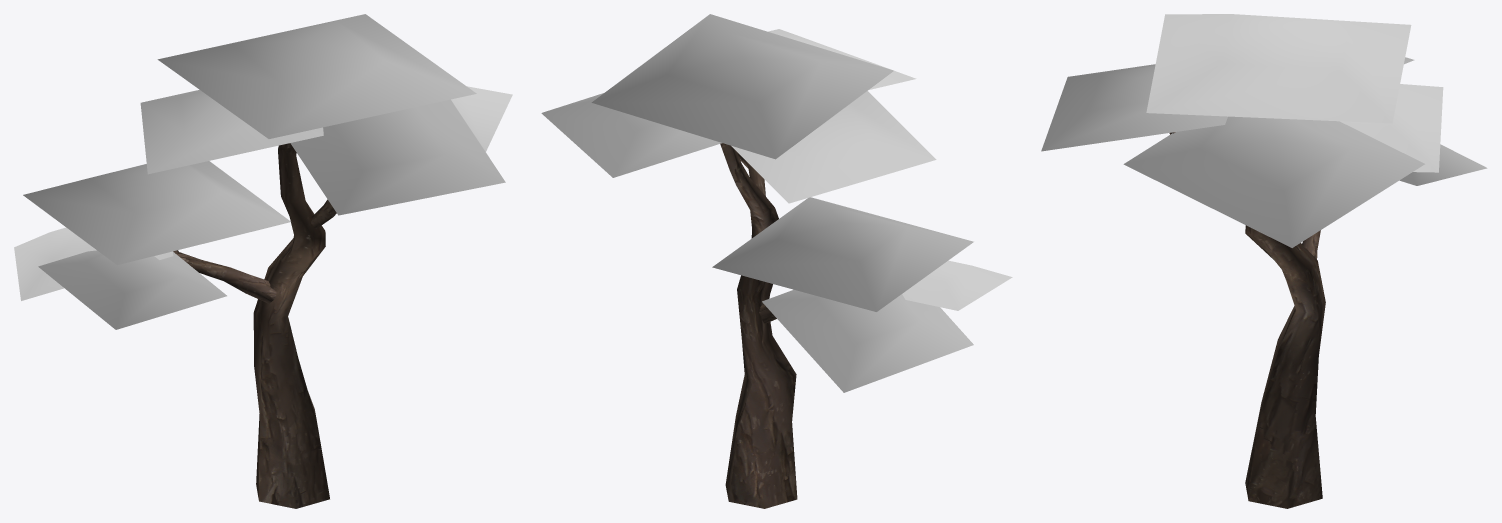
The model's file is Tree_15_Green.FBX.
3 renders of one model, left to right at view 1: azimuth 30°, elevation 25°; view 2: azimuth 150°, elevation 25°; view 3: azimuth 270°, elevation 25°, orthographic. The views are drawn at different scales.
Visible parts, largest first — view 1: Object012, polySurface315; view 2: Object012, polySurface315; view 3: Object012, polySurface315.
Part boxes in pixels (<box>): Object012: <box>14,14,512,329</box>; polySurface315: <box>173,143,336,508</box>; Object012: <box>541,14,1012,392</box>; polySurface315: <box>720,143,797,508</box>; Object012: <box>1041,14,1487,247</box>; polySurface315: <box>1169,132,1325,508</box>.
Size of the model in its own units: 224 by 203 by 175.
